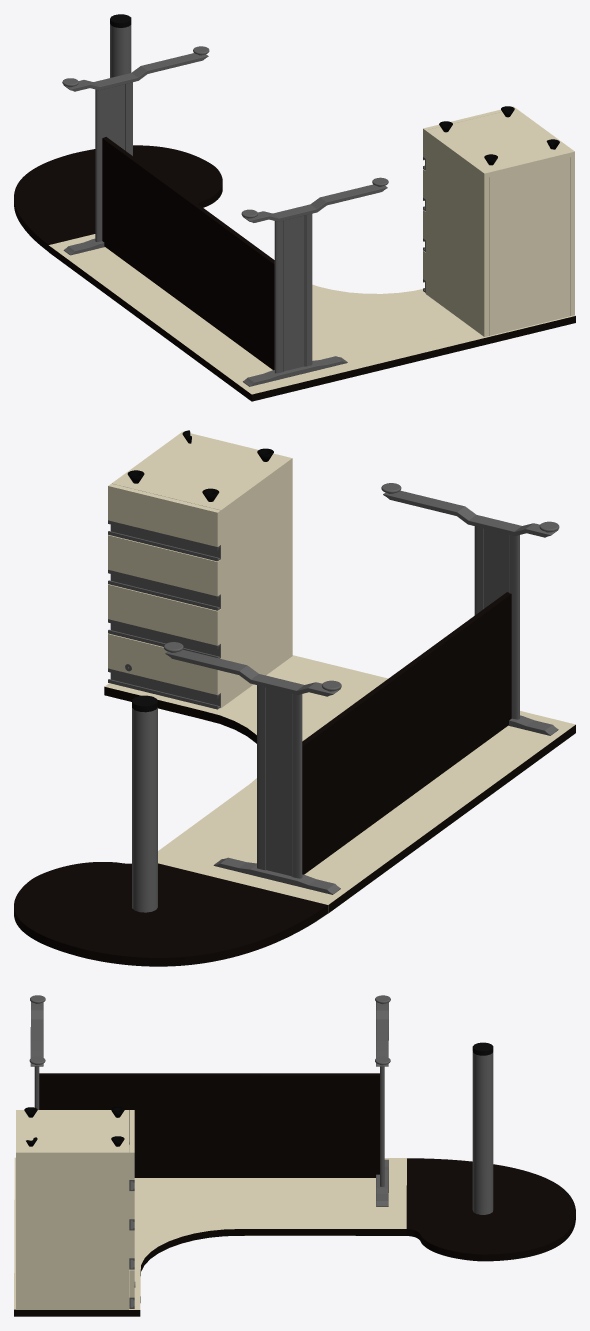
The model's file is solenne.FBX.
The picture shows the model from 3 angles, top to bottom: view 1: azimuth 30°, elevation 25°; view 2: azimuth 150°, elevation 25°; view 3: azimuth 270°, elevation 25°; orthographic projection. The views are drawn at different scales.
Visible parts, largest first — view 1: ромашка закруглен001, Box005, Line290, Arch_52_055_134, Arch_52_055_128, cтол со стулом; view 2: ромашка закруглен001, Box005, Line290, Arch_52_055_128, Arch_52_055_134, cтол со стулом; view 3: ромашка закруглен001, Box005, Line290, cтол со стулом, Arch_52_055_128, Arch_52_055_134.
Part boxes in pixels (x1=…): ромашка закруглен001: x1=48, y1=106, x2=575, y2=401; Box005: x1=102, y1=137, x2=274, y2=370; Line290: x1=14, y1=145, x2=222, y2=251; Arch_52_055_134: x1=241, y1=177, x2=388, y2=386; Arch_52_055_128: x1=62, y1=46, x2=209, y2=255; cтол со стулом: x1=110, y1=24, x2=131, y2=77; ромашка закруглен001: x1=104, y1=430, x2=575, y2=913; Box005: x1=302, y1=592, x2=511, y2=874; Line290: x1=14, y1=862, x2=327, y2=966; Arch_52_055_128: x1=163, y1=642, x2=341, y2=894; Arch_52_055_134: x1=381, y1=483, x2=559, y2=735; cтол со стулом: x1=132, y1=707, x2=157, y2=912; ромашка закруглен001: x1=14, y1=1107, x2=406, y2=1316; Box005: x1=39, y1=1073, x2=379, y2=1177; Line290: x1=406, y1=1158, x2=575, y2=1261; cтол со стулом: x1=472, y1=1051, x2=493, y2=1214; Arch_52_055_128: x1=375, y1=995, x2=390, y2=1206; Arch_52_055_134: x1=29, y1=995, x2=45, y2=1109.
Size of the model in its own units: 143 by 75.04 by 223.
